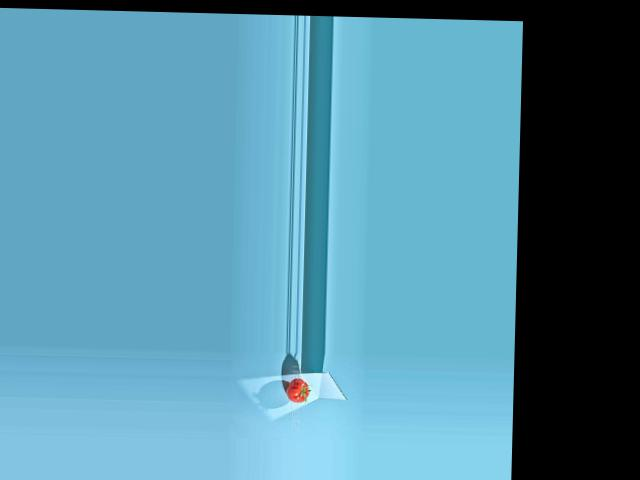tomato: (286, 377, 309, 402)
